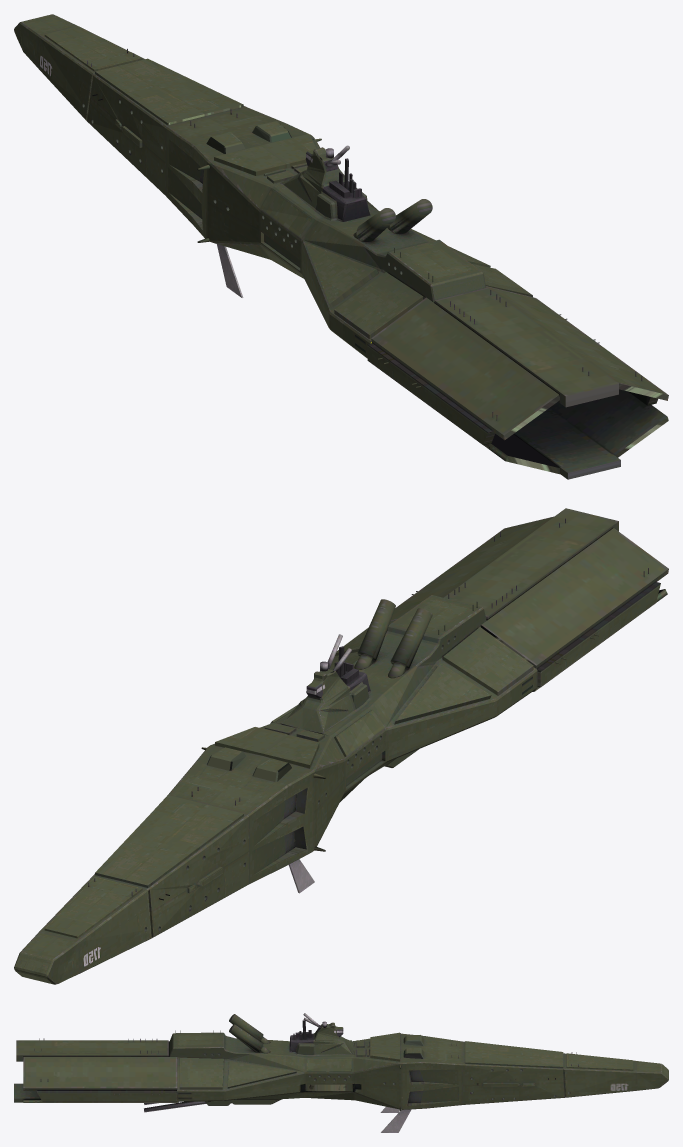
Rendered from tfpa_01_science.obj.
The picture shows the model from 3 angles, top to bottom: view 1: azimuth 30°, elevation 25°; view 2: azimuth 150°, elevation 25°; view 3: azimuth 270°, elevation 25°; orthographic projection. The views are drawn at different scales.
Parts seen in each view (by area): view 1: jorodoxShape.001; view 2: jorodoxShape.001; view 3: jorodoxShape.001.
Boxes of the visible parts, x1,y1,x2,y2 form: jorodoxShape.001: (14, 14, 668, 479); jorodoxShape.001: (14, 508, 668, 984); jorodoxShape.001: (14, 1013, 668, 1132).
Bounding box in the file's own units: 18.57 × 18.45 × 99.04.
